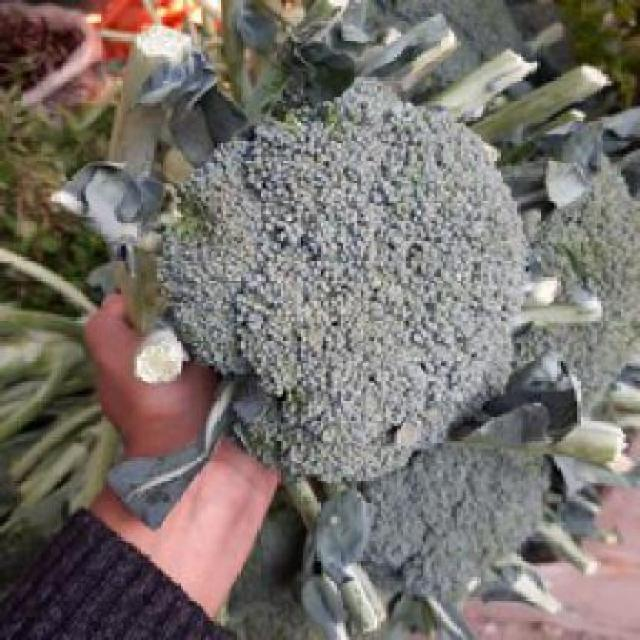broccoli: (176, 97, 504, 477), (516, 157, 638, 436), (334, 446, 552, 588)
